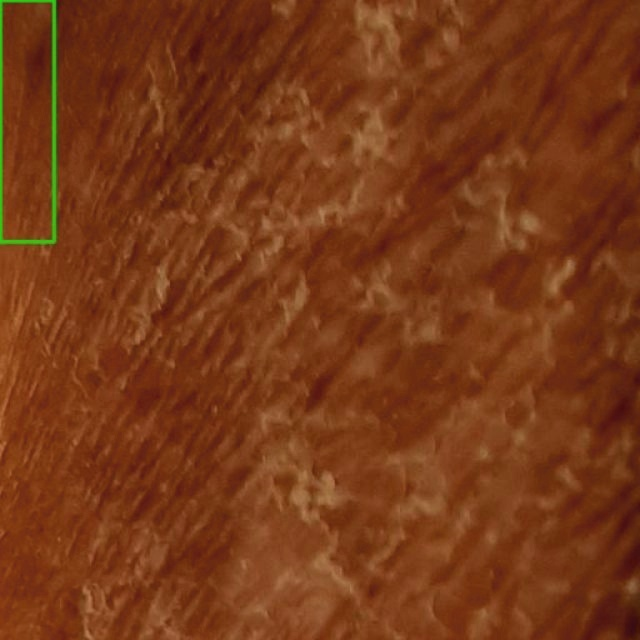Tinea Corporis: (0, 0, 54, 241)
